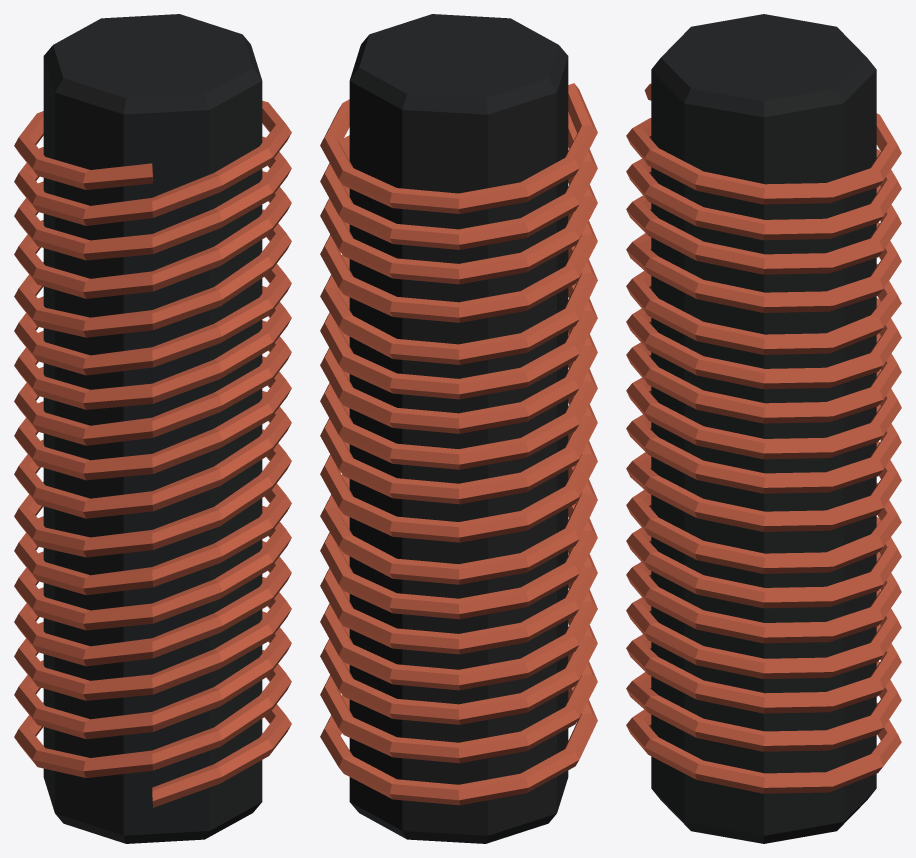
The model's file is Antenna.fbx.
3 renders of one model, left to right at view 1: azimuth 30°, elevation 25°; view 2: azimuth 150°, elevation 25°; view 3: azimuth 270°, elevation 25°, orthographic.
Visible parts, largest first — view 1: antenna; view 2: antenna; view 3: antenna.
Part boxes in pixels (left/top/right/bottom): antenna: left=14, top=14, right=291, bottom=843; antenna: left=320, top=14, right=597, bottom=843; antenna: left=626, top=14, right=901, bottom=843.
Size of the model in its own units: 0.4472 by 1.32 by 0.4448.
